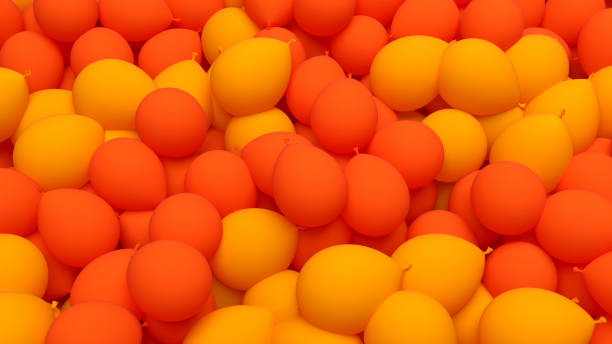Balloon: (294, 244, 401, 331), (128, 242, 212, 319), (273, 142, 348, 228), (476, 290, 595, 344), (438, 39, 522, 114), (390, 239, 484, 306), (210, 39, 291, 113), (38, 192, 119, 265), (14, 115, 93, 188), (218, 209, 295, 283), (471, 161, 545, 235), (492, 113, 571, 182), (72, 59, 149, 129), (344, 155, 409, 237), (368, 36, 440, 109), (537, 193, 612, 263), (86, 138, 163, 206), (136, 88, 209, 155), (362, 292, 456, 344), (310, 77, 376, 151), (146, 195, 222, 255), (371, 123, 442, 187), (181, 152, 256, 211), (484, 242, 558, 296), (47, 304, 141, 344), (1, 33, 64, 92), (510, 39, 565, 93), (98, 1, 173, 39), (456, 1, 525, 42), (33, 1, 97, 41), (292, 1, 358, 37), (580, 11, 612, 73)
